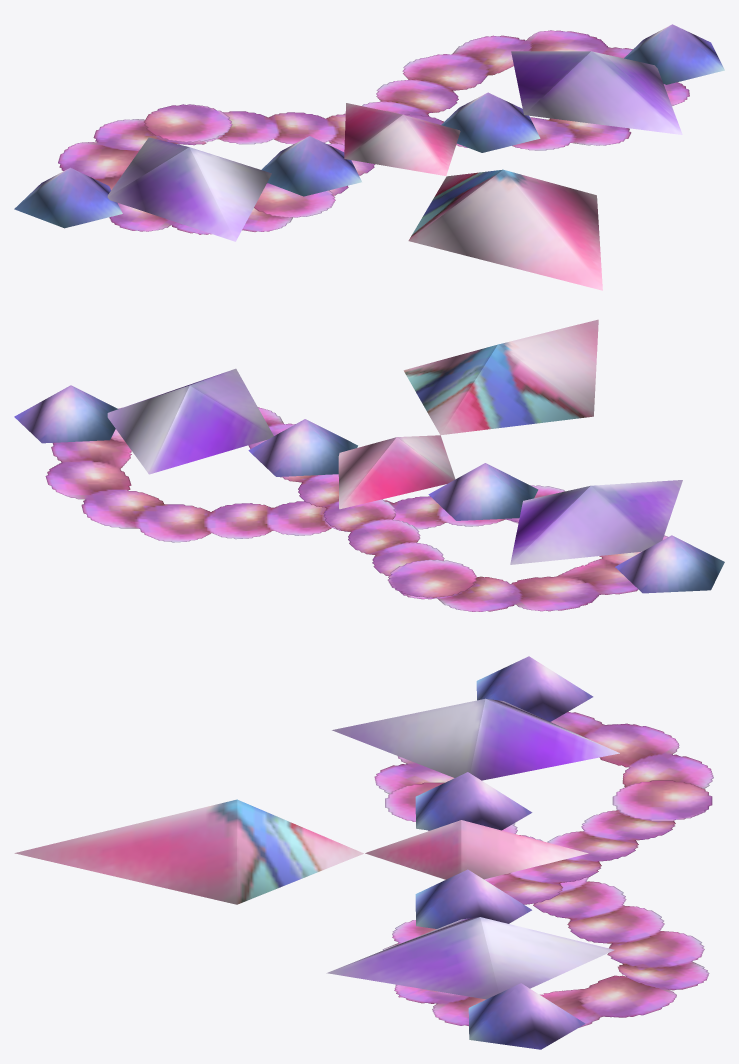
The model's file is jewelry_pendant.glb.
The picture shows the model from 3 angles, top to bottom: view 1: azimuth 30°, elevation 25°; view 2: azimuth 150°, elevation 25°; view 3: azimuth 270°, elevation 25°; orthographic projection. The views are drawn at different scales.
Parts seen in each view (by area): view 1: pendant5, pendant0, pendant3, pendant2, pendant1, pendant4, pendant8, pendant9, pendant10, pendant6, pendant7; view 2: pendant5, pendant0, pendant2, pendant3, pendant1, pendant4, pendant8, pendant10, pendant9, pendant6; view 3: pendant5, pendant0, pendant2, pendant3, pendant1, pendant10, pendant8, pendant9, pendant4, pendant6, pendant7.
Boxes of the visible parts, left/top/right/bottom form: pendant5: left=58, top=30, right=689, bottom=234; pendant0: left=408, top=169, right=602, bottom=290; pendant3: left=511, top=51, right=682, bottom=134; pendant2: left=107, top=137, right=271, bottom=241; pendant1: left=344, top=103, right=460, bottom=175; pendant4: left=14, top=167, right=122, bottom=228; pendant8: left=261, top=136, right=361, bottom=196; pendant9: left=441, top=92, right=540, bottom=152; pendant10: left=624, top=24, right=724, bottom=84; pendant6: left=144, top=104, right=232, bottom=142; pendant7: left=254, top=183, right=335, bottom=217; pendant5: left=45, top=407, right=667, bottom=611; pendant0: left=403, top=319, right=598, bottom=435; pendant2: left=510, top=480, right=682, bottom=564; pendant3: left=107, top=368, right=273, bottom=474; pendant1: left=338, top=435, right=455, bottom=509; pendant4: left=615, top=535, right=724, bottom=593; pendant8: left=428, top=463, right=538, bottom=520; pendant10: left=14, top=385, right=118, bottom=443; pendant9: left=248, top=419, right=357, bottom=476; pendant6: left=387, top=559, right=477, bottom=597; pendant5: left=374, top=711, right=713, bottom=1027; pendant0: left=14, top=799, right=363, bottom=904; pendant2: left=332, top=698, right=619, bottom=780; pendant3: left=326, top=917, right=614, bottom=999; pendant1: left=365, top=820, right=588, bottom=879; pendant10: left=468, top=983, right=585, bottom=1049; pendant8: left=415, top=772, right=532, bottom=830; pendant9: left=415, top=869, right=531, bottom=928; pendant4: left=476, top=656, right=593, bottom=721; pendant6: left=612, top=780, right=712, bottom=821; pendant7: left=385, top=782, right=444, bottom=821.
Bounding box in the file's own units: 0.4293 × 0.0428 × 0.3405.
Materials: 1 (1 with a texture image).
